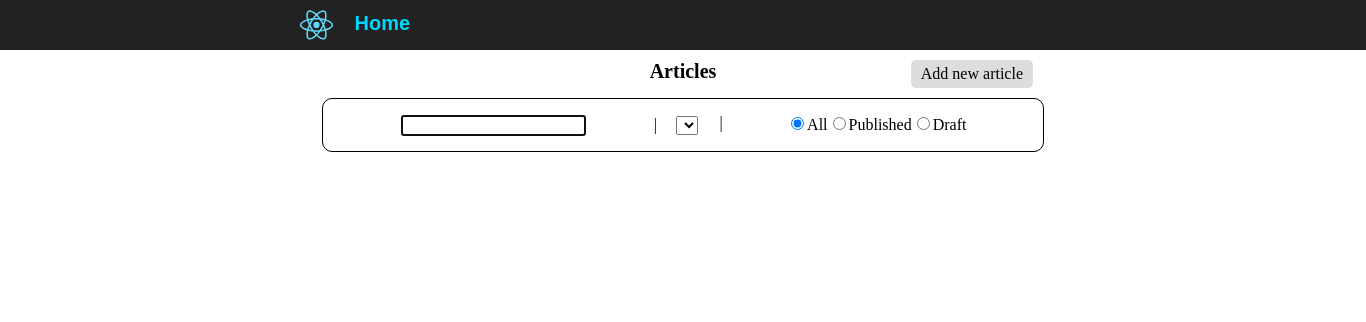
Test: E2E › Go to add page
Step 1. Click the link with class "Title__button" → (972, 74), box [911,60,1033,88]
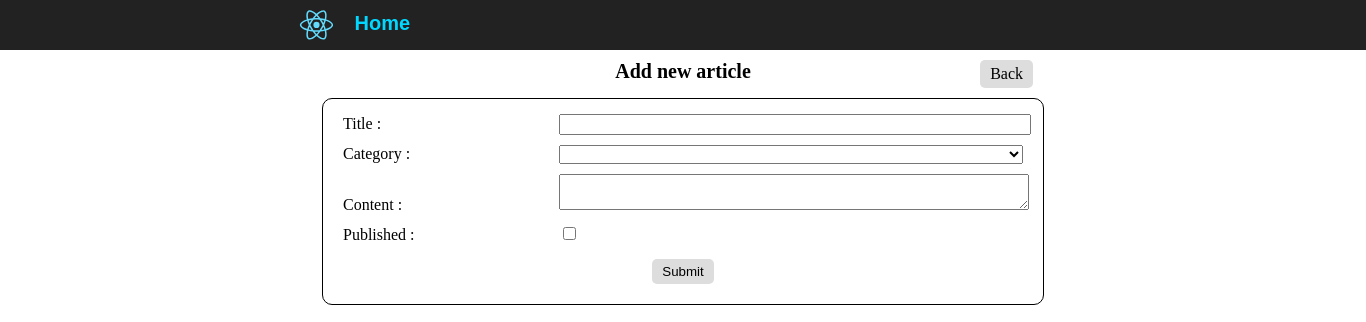
expect the heading with class "Title__title" reads "Add new article": met, box [615,60,751,82]
